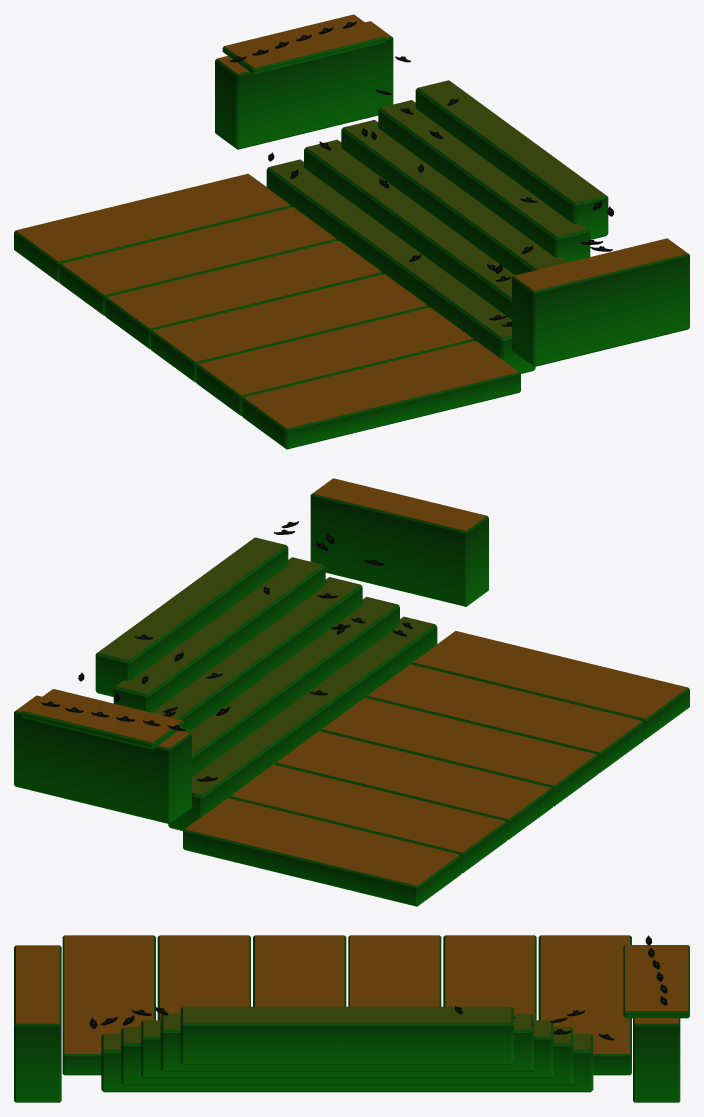
File: shrine_steps.glb
3 renders of one model, top to bottom at view 1: azimuth 30°, elevation 25°; view 2: azimuth 150°, elevation 25°; view 3: azimuth 270°, elevation 25°, orthographic. The views are drawn at different scales.
Visible parts, largest first — view 1: shrine_steps; view 2: shrine_steps; view 3: shrine_steps.
Part boxes in pixels (left/top/right/bottom): shrine_steps: left=14, top=14, right=689, bottom=449; shrine_steps: left=14, top=478, right=689, bottom=906; shrine_steps: left=14, top=935, right=689, bottom=1102.
Size of what is drawn, in the model's own units: 5.79 by 1.9 by 8.52.
